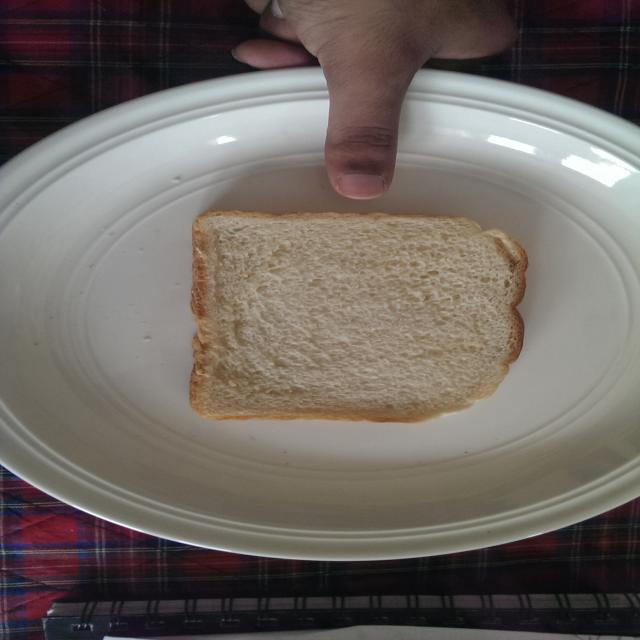bread: (181, 204, 546, 442)
